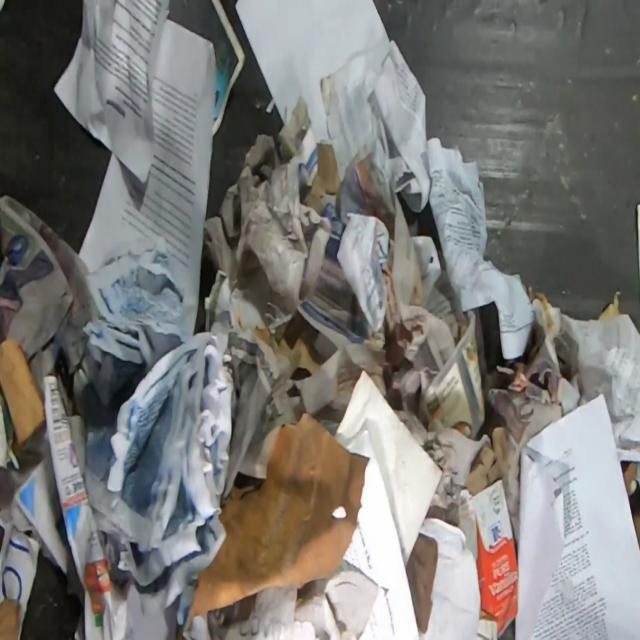cardboard: (449, 478, 519, 640), (0, 334, 46, 460), (301, 142, 341, 217), (620, 460, 640, 556), (0, 597, 23, 639), (598, 290, 621, 322)
rigid_plastic: (420, 308, 486, 441)
